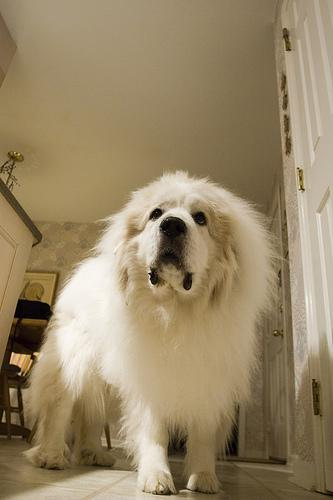Great_Pyrenees: (26, 170, 279, 493)
